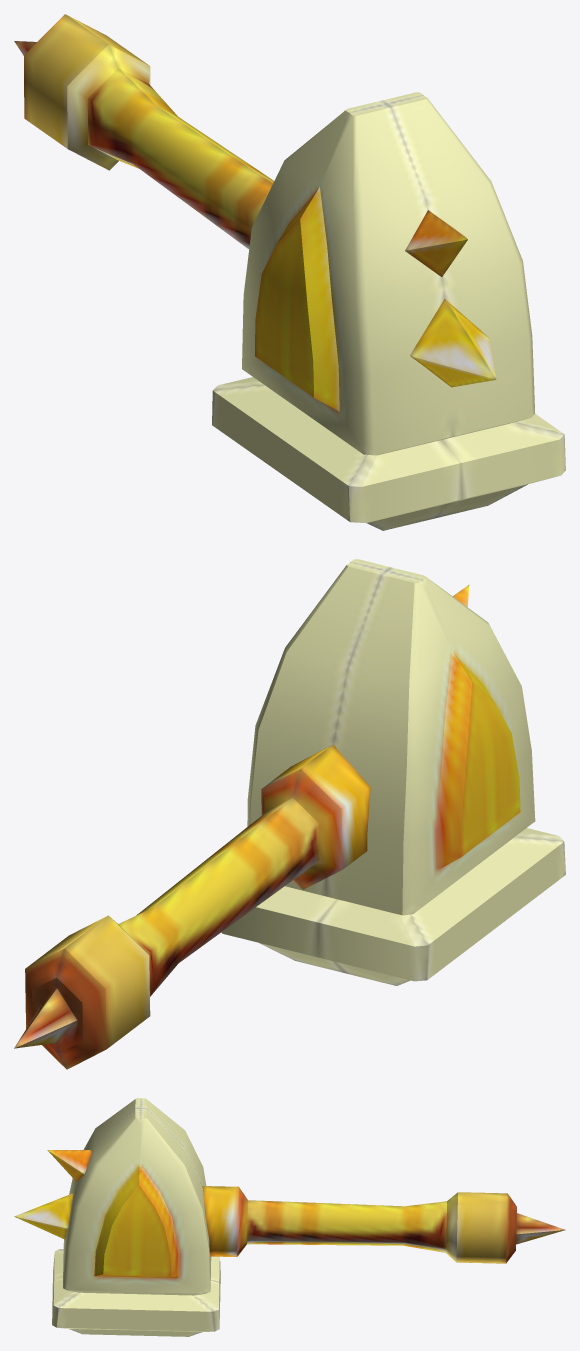
The model's file is Hammer.FBX.
3 views of the same model, one above another, from view 1: azimuth 30°, elevation 25°; view 2: azimuth 150°, elevation 25°; view 3: azimuth 270°, elevation 25° (orthographic). The views are drawn at different scales.
Parts seen in each view (by area): view 1: avenger_weapon; view 2: avenger_weapon; view 3: avenger_weapon.
Boxes of the visible parts, <box> form: avenger_weapon: <box>14,14,565,530</box>; avenger_weapon: <box>14,559,565,1069</box>; avenger_weapon: <box>14,1098,565,1336</box>.
Size of the model in its own units: 14.95 by 25.03 by 58.38.
